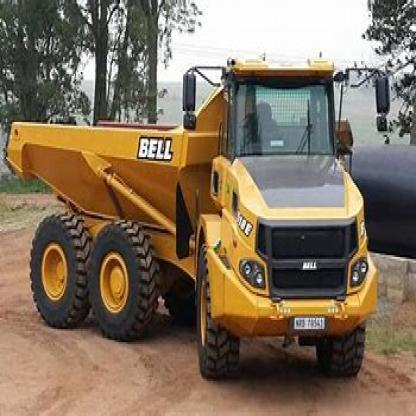dump_truck: (3, 42, 382, 381)
